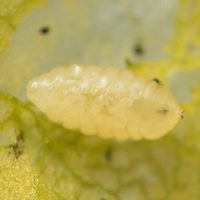insect: (27, 65, 181, 139)
